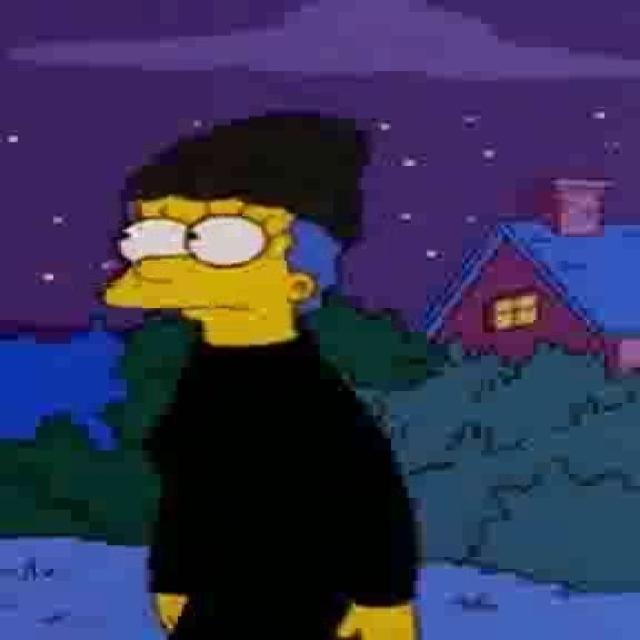Marge Simpson: (97, 191, 343, 351)
